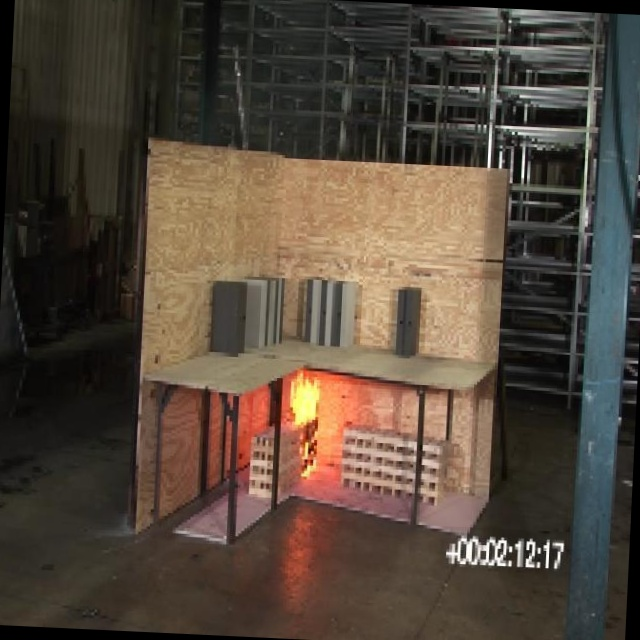fire: (276, 360, 330, 472)
